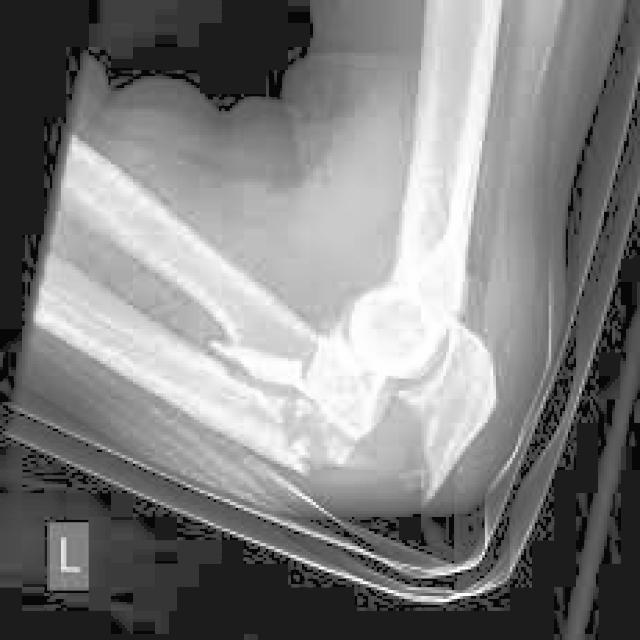Comminuted Fracture: (361, 343, 459, 529), (204, 336, 316, 476)
